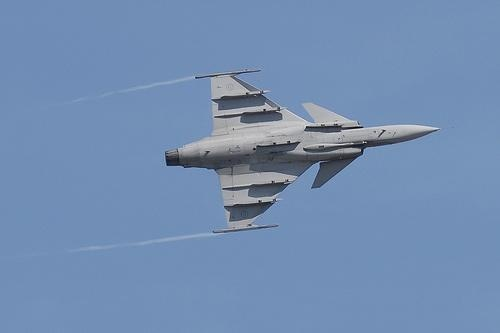aeroplane: (166, 69, 443, 234)
